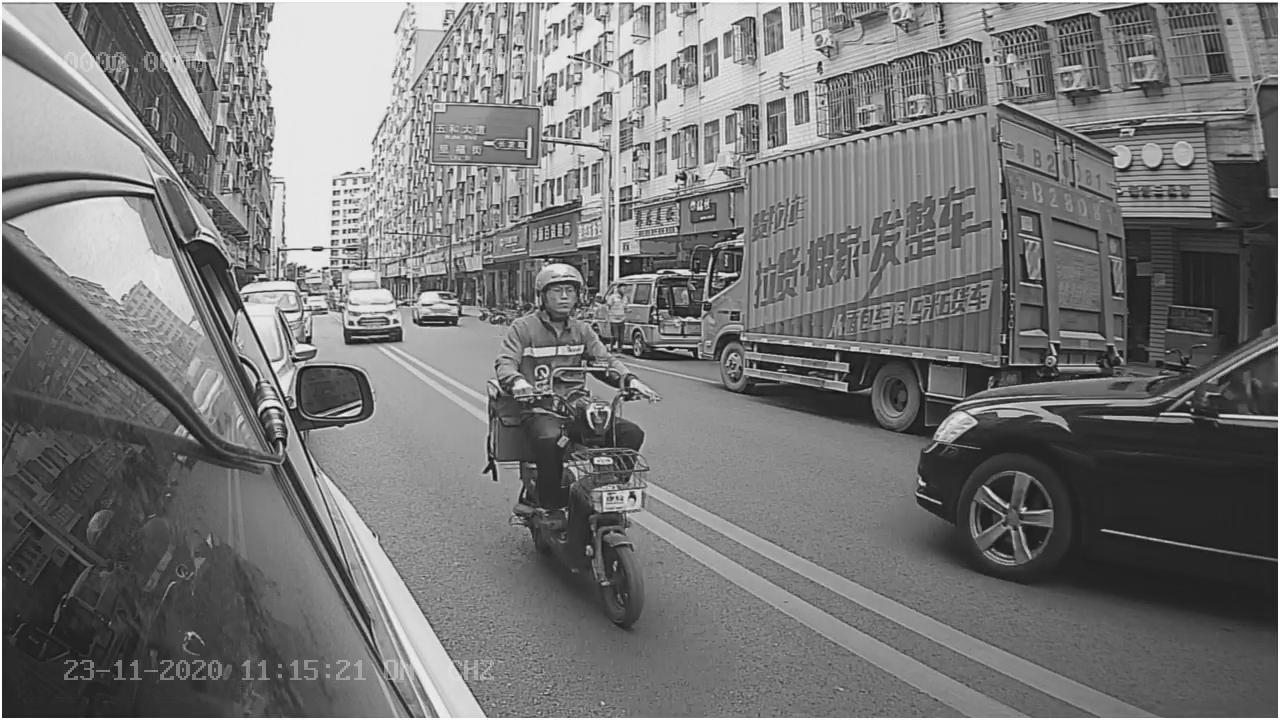person: (489, 254, 633, 365)
